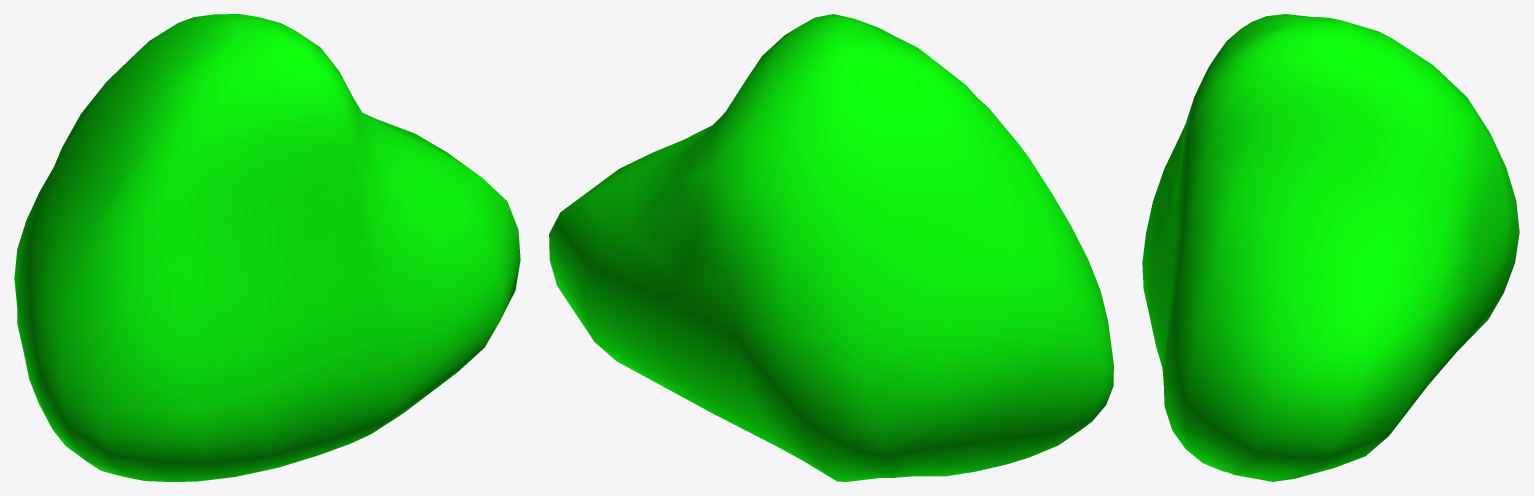
The model's file is BubbleGrande.fbx.
3 renders of one model, left to right at view 1: azimuth 30°, elevation 25°; view 2: azimuth 150°, elevation 25°; view 3: azimuth 270°, elevation 25°, orthographic. The views are drawn at different scales.
Visible parts, largest first — view 1: pSphere9; view 2: pSphere9; view 3: pSphere9.
Boxes of the visible parts, bbox=[...] form: pSphere9: bbox=[14, 14, 520, 481]; pSphere9: bbox=[549, 14, 1113, 481]; pSphere9: bbox=[1142, 14, 1519, 481].
Size of the model in its own units: 0.8948 by 0.7409 by 0.5948.
